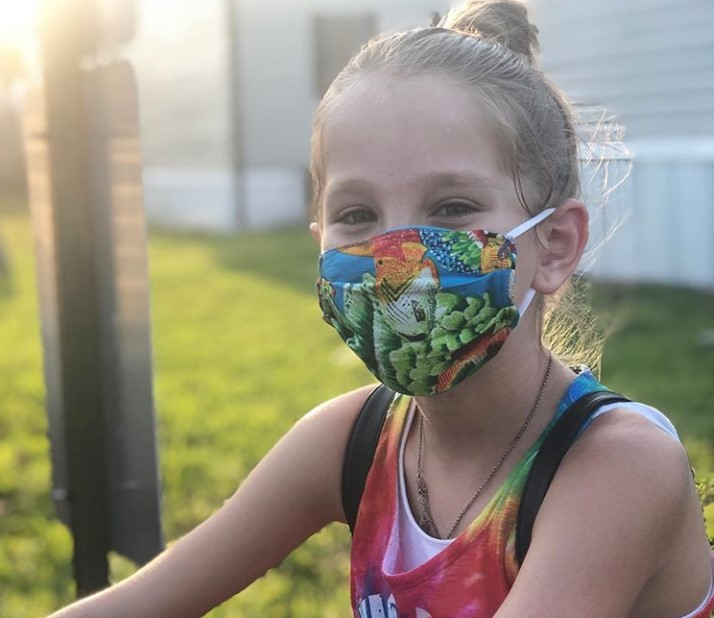face_with_mask: (312, 31, 589, 399)
